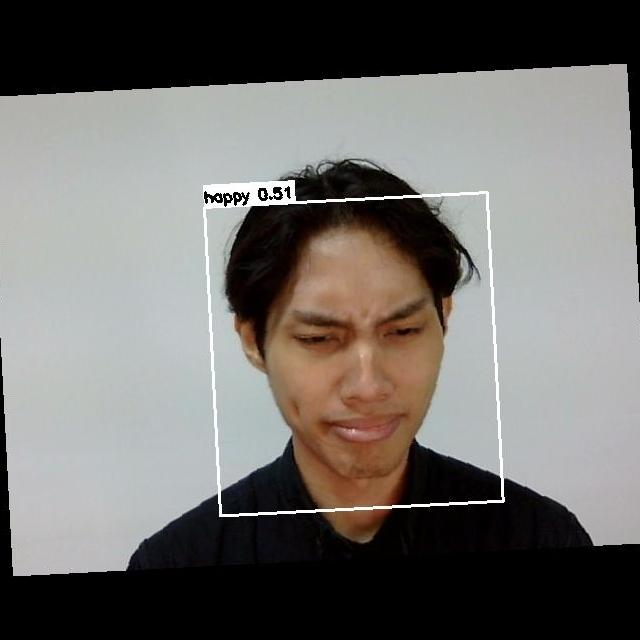Disgust: (263, 294, 458, 458)
